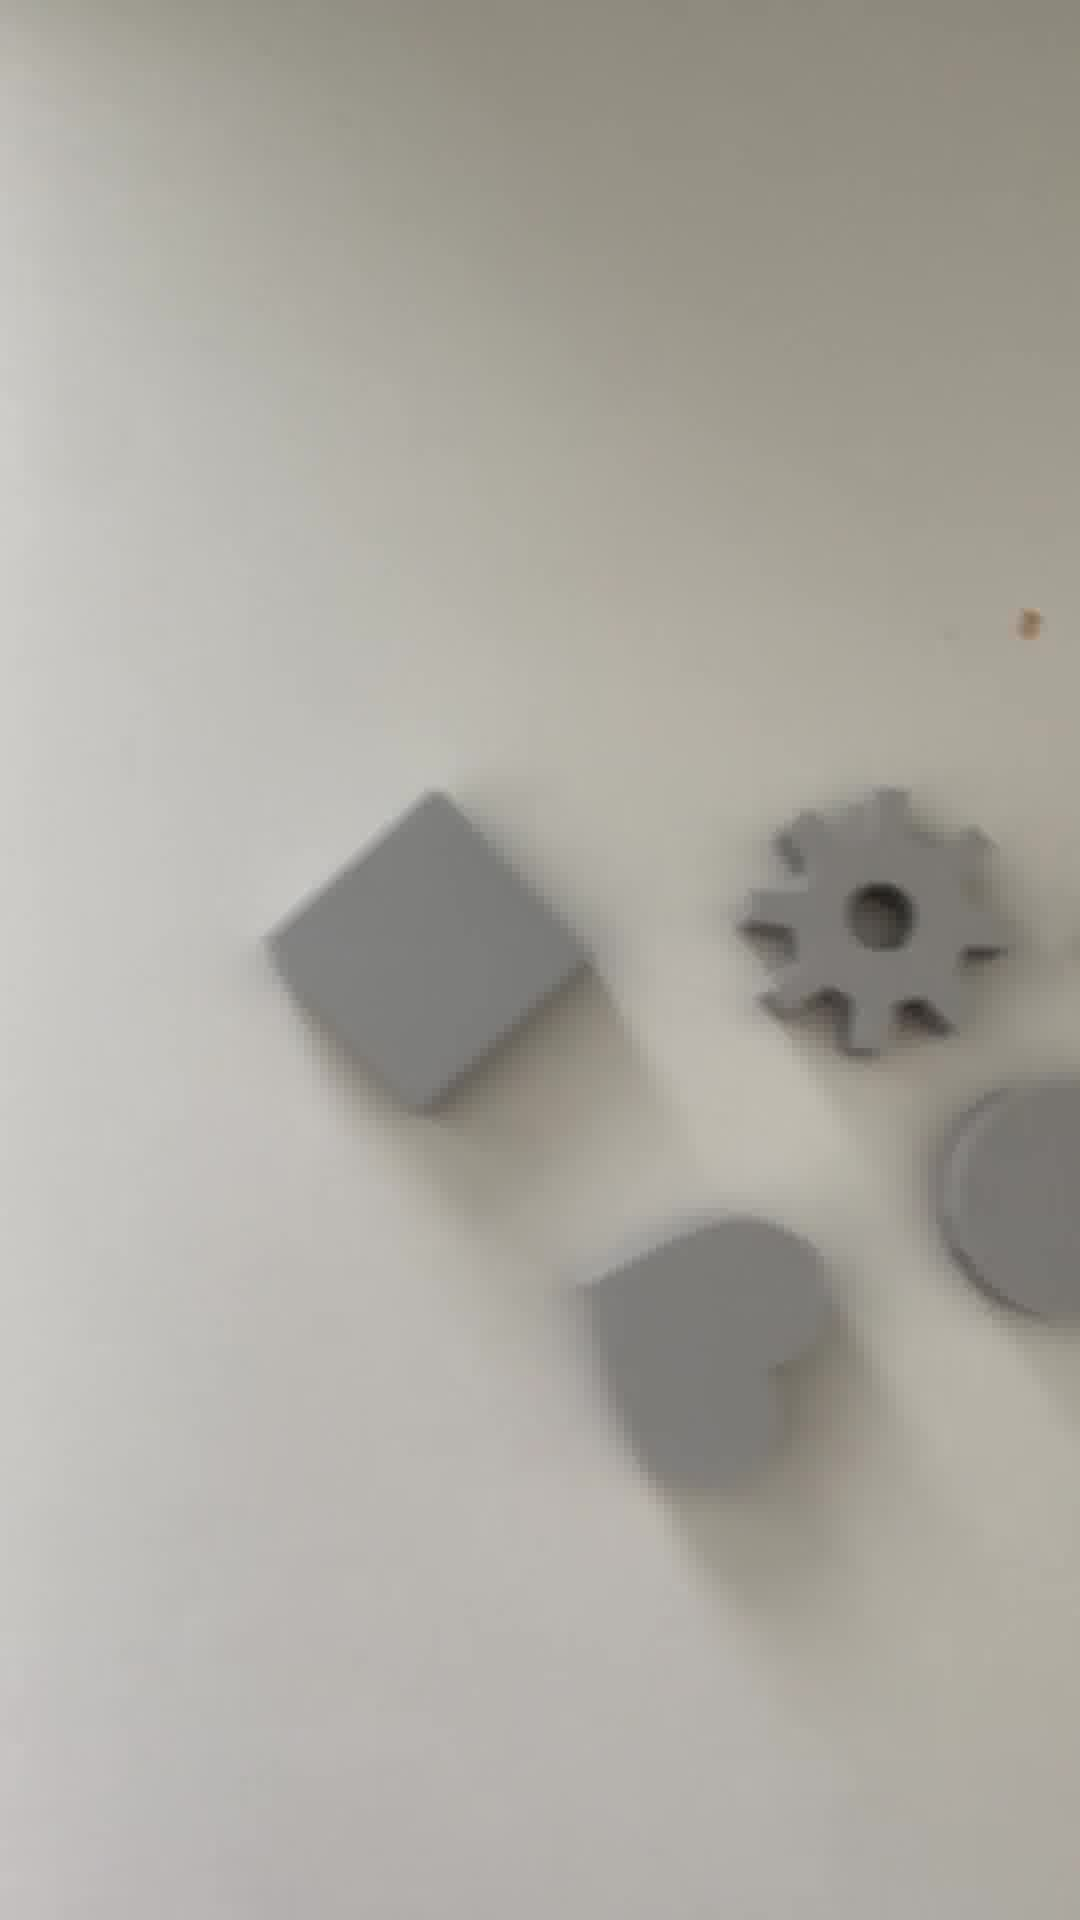Gray circle: (928, 1077, 1080, 1342)
Gray gear: (742, 785, 1027, 1071)
Gray heart: (578, 1215, 831, 1497)
Gray square: (278, 793, 597, 1131)
